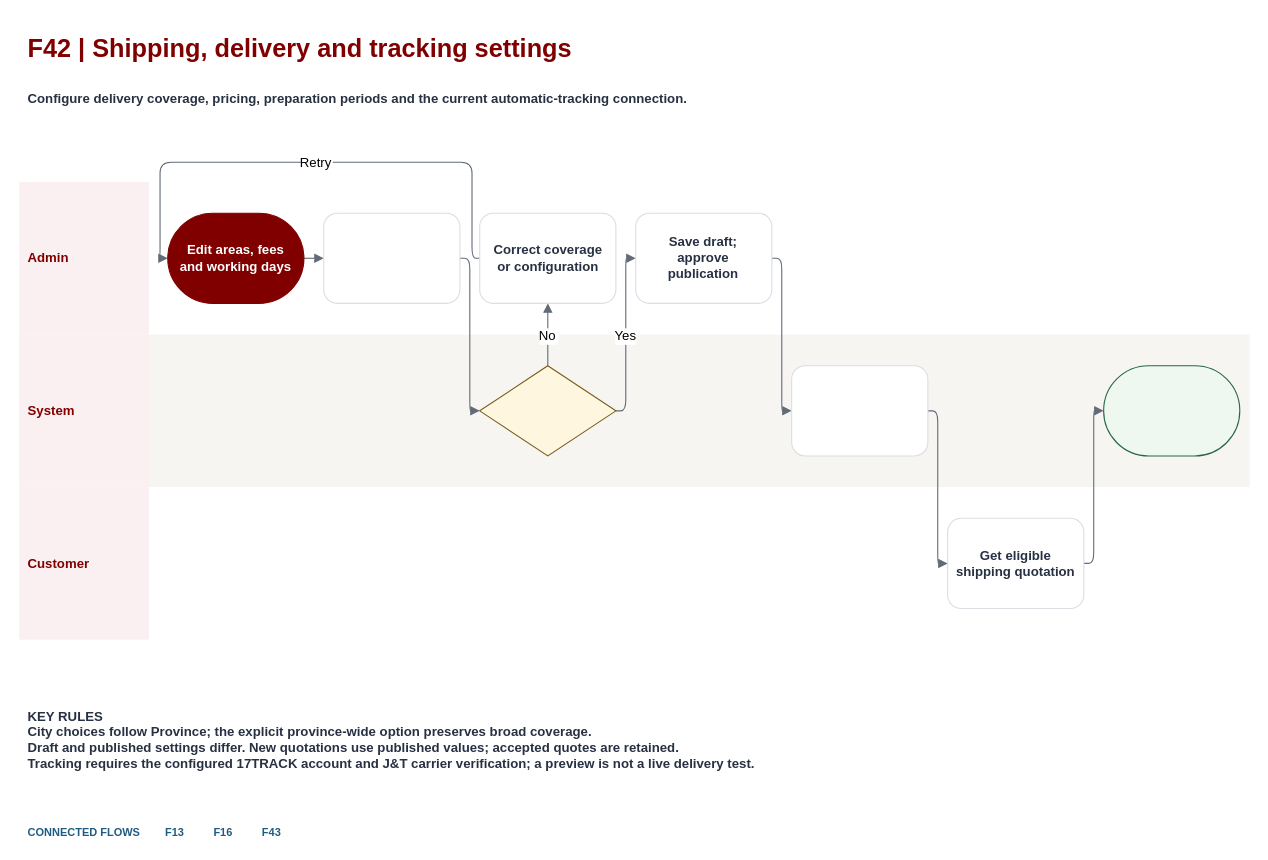
This 1268x860 diagram has some shape labels left out. Here are the shapes that lost their labels. From the top down, the centre of each, then its label:
[391,257]: Review tracking connection readiness
[547,410]: Draft valid?
[859,410]: Publish current delivery settings
[1171,410]: Keep accepted order snapshot
